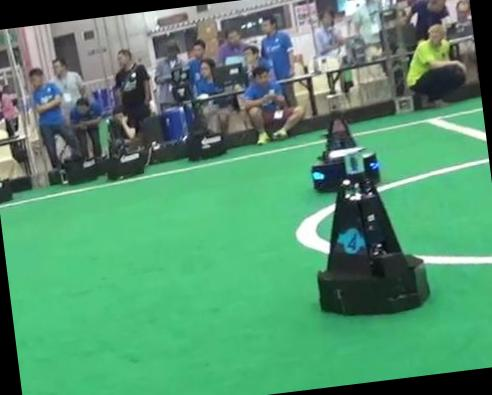robot: (319, 153, 430, 314), (312, 111, 382, 191)
